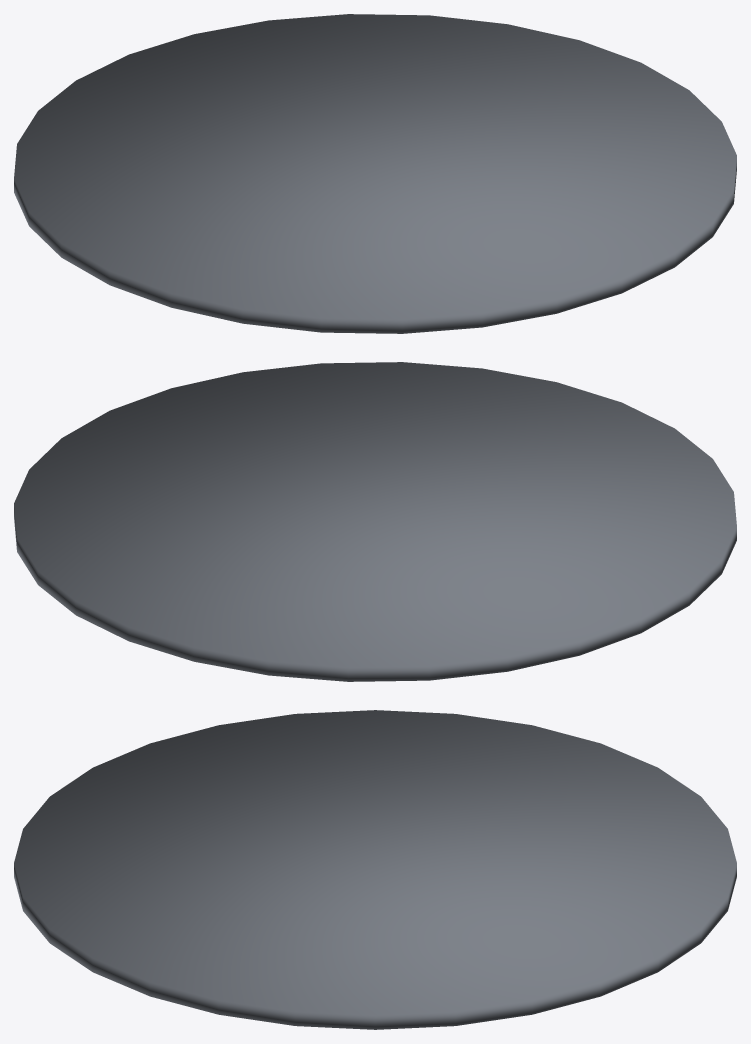
File: alien_spawn_pad.glb
The picture shows the model from 3 angles, top to bottom: view 1: azimuth 30°, elevation 25°; view 2: azimuth 150°, elevation 25°; view 3: azimuth 270°, elevation 25°; orthographic projection.
Parts seen in each view (by area): view 1: PRP_SpawnDais; view 2: PRP_SpawnDais; view 3: PRP_SpawnDais.
Part boxes in pixels (<box>): PRP_SpawnDais: <box>14,14,736,333</box>; PRP_SpawnDais: <box>14,362,736,681</box>; PRP_SpawnDais: <box>14,710,736,1029</box>.
Size of the model in its own units: 4.6 by 0.13 by 4.6.
1 material, 1 textured.
